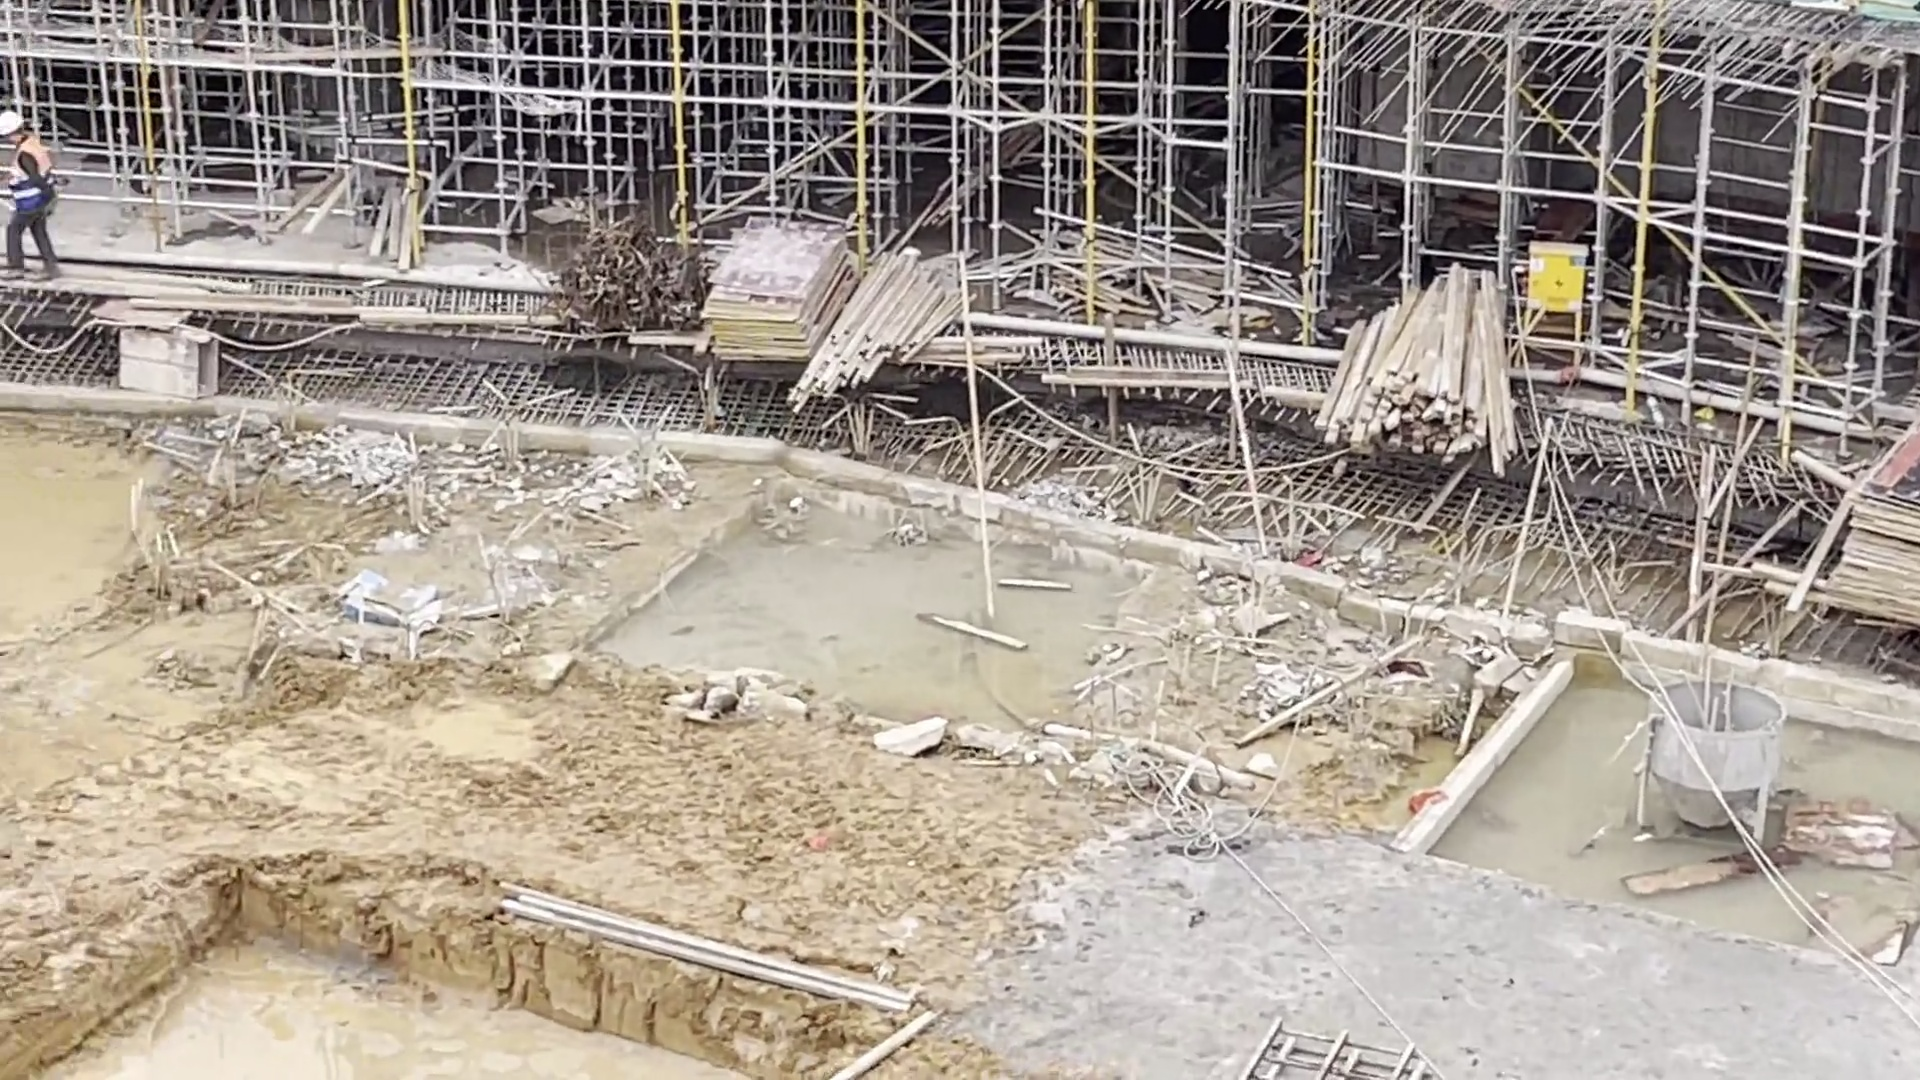board: (702, 205, 855, 370), (1817, 414, 1920, 612)
ebox: (1524, 241, 1587, 369)
helmet: (1, 111, 26, 139)
person: (1, 103, 66, 286)
wood: (1324, 259, 1509, 472)
